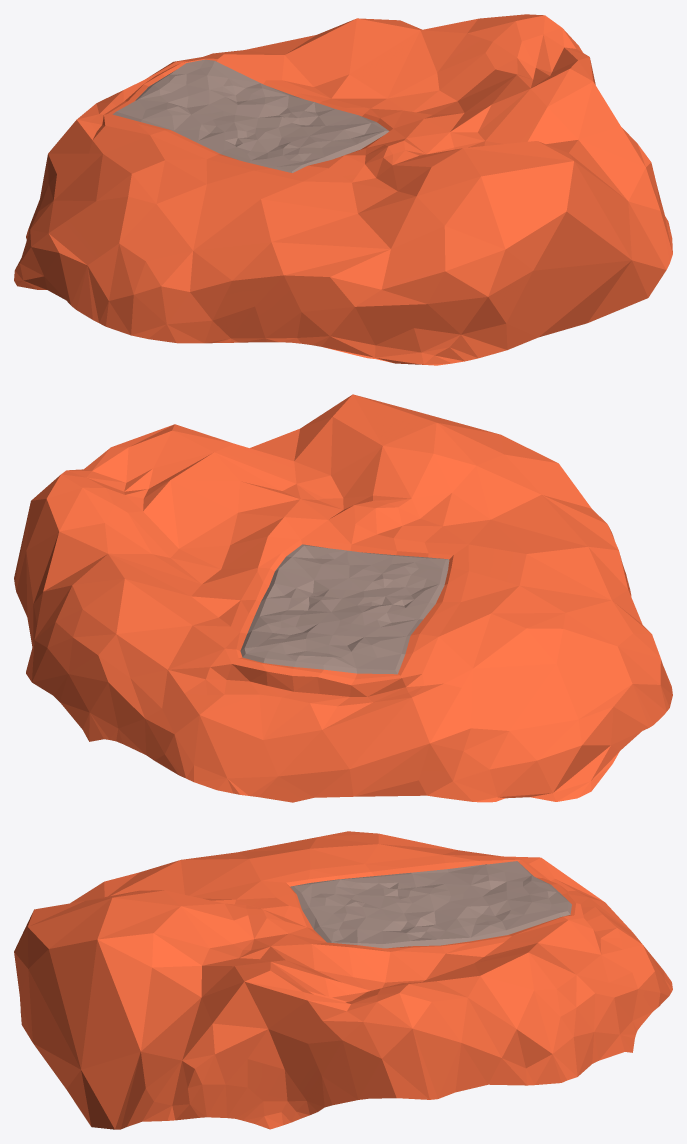
File: ground_030.fbx
The picture shows the model from 3 angles, top to bottom: view 1: azimuth 30°, elevation 25°; view 2: azimuth 150°, elevation 25°; view 3: azimuth 270°, elevation 25°; orthographic projection. The views are drawn at different scales.
Visible parts, largest first — view 1: ground.030; view 2: ground.030; view 3: ground.030.
Part boxes in pixels (<box>): ground.030: <box>14,14,672,365</box>; ground.030: <box>14,394,672,802</box>; ground.030: <box>14,831,672,1129</box>.
Bounding box in the file's own units: 2336 × 668 × 2433.
Materials: 1 (1 with a texture image).
